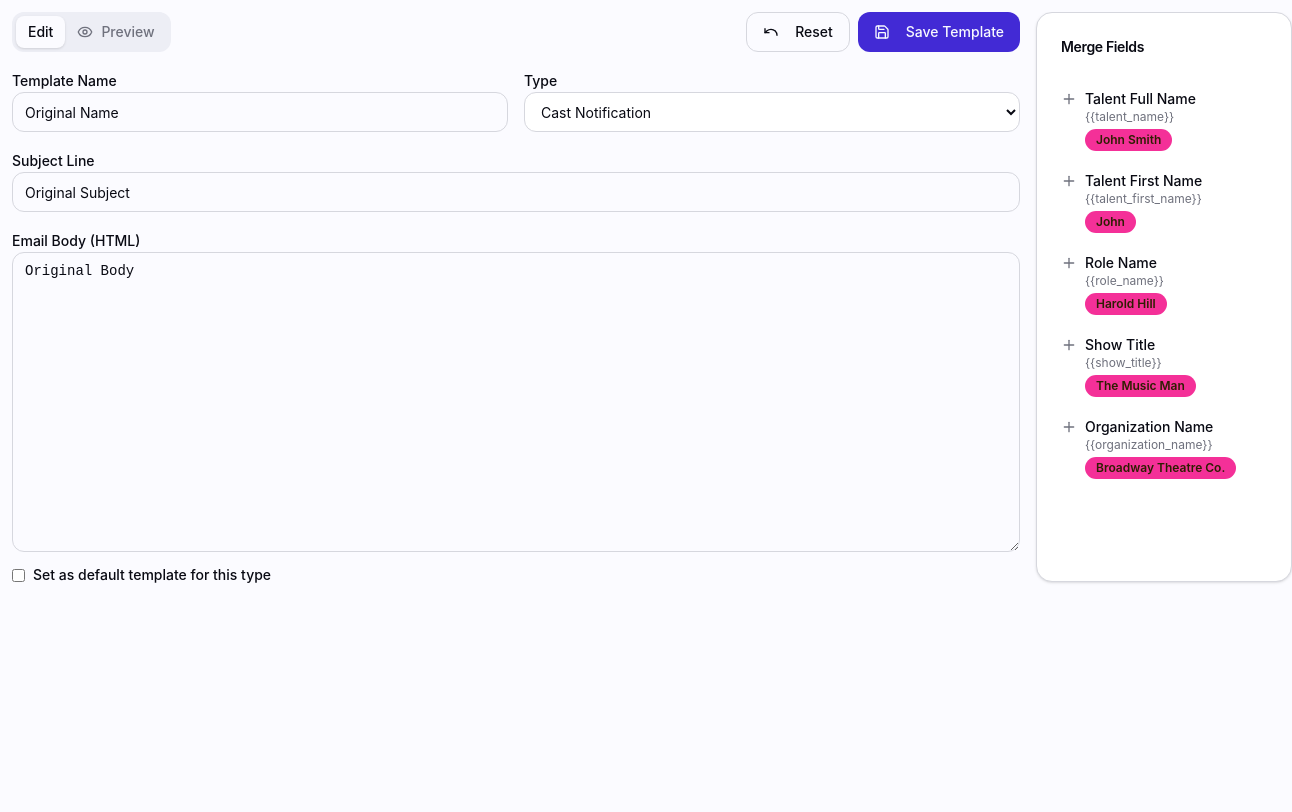
it: EmailTemplateEditor › should reset form when reset button is clicked
Replace the text in the field labelled "Template Name" with "Changed Name" at (260, 112), box [12,92,508,132]
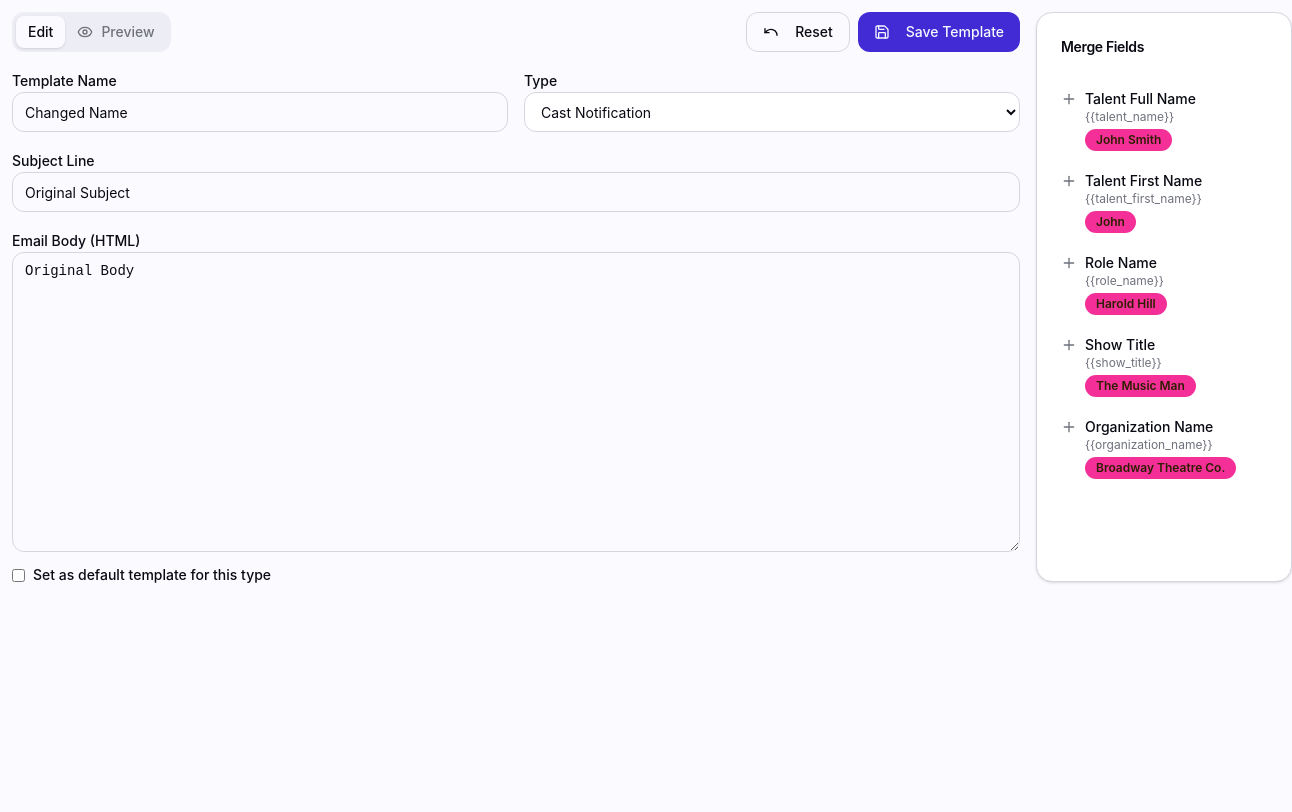
Click the button "Reset" at (798, 32), box [746,12,850,52]
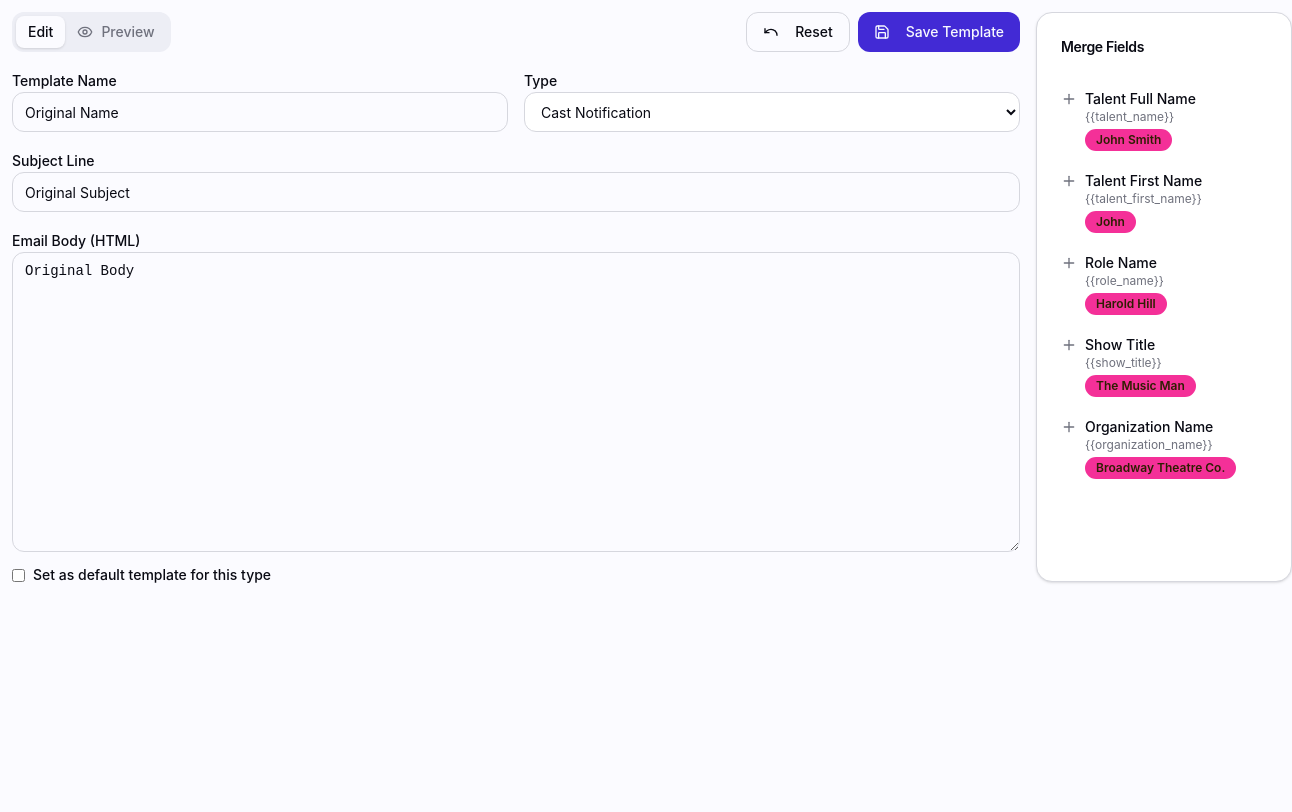
Result: the field labelled "Template Name" holds "Original Name" at [12,92,508,132]
